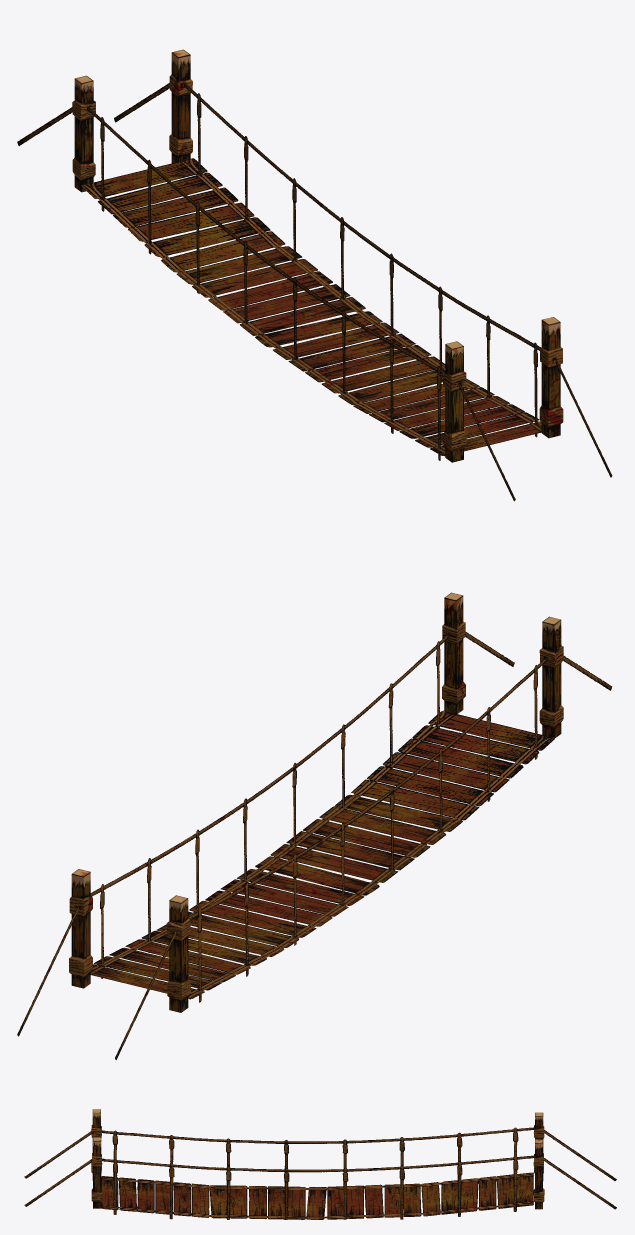
The picture shows the model from 3 angles, top to bottom: view 1: azimuth 30°, elevation 25°; view 2: azimuth 150°, elevation 25°; view 3: azimuth 270°, elevation 25°; orthographic projection. The views are drawn at different scales.
Visible parts, largest first — view 1: LOW吊桥; view 2: LOW吊桥; view 3: LOW吊桥.
Boxes of the visible parts, x1=… form: LOW吊桥: x1=17, y1=49, x2=612, y2=501; LOW吊桥: x1=17, y1=592, x2=612, y2=1059; LOW吊桥: x1=24, y1=1109, x2=616, y2=1219.
Bounding box in the file's own units: 99.09 × 110 × 751.
Materials: 1 (1 with a texture image).
